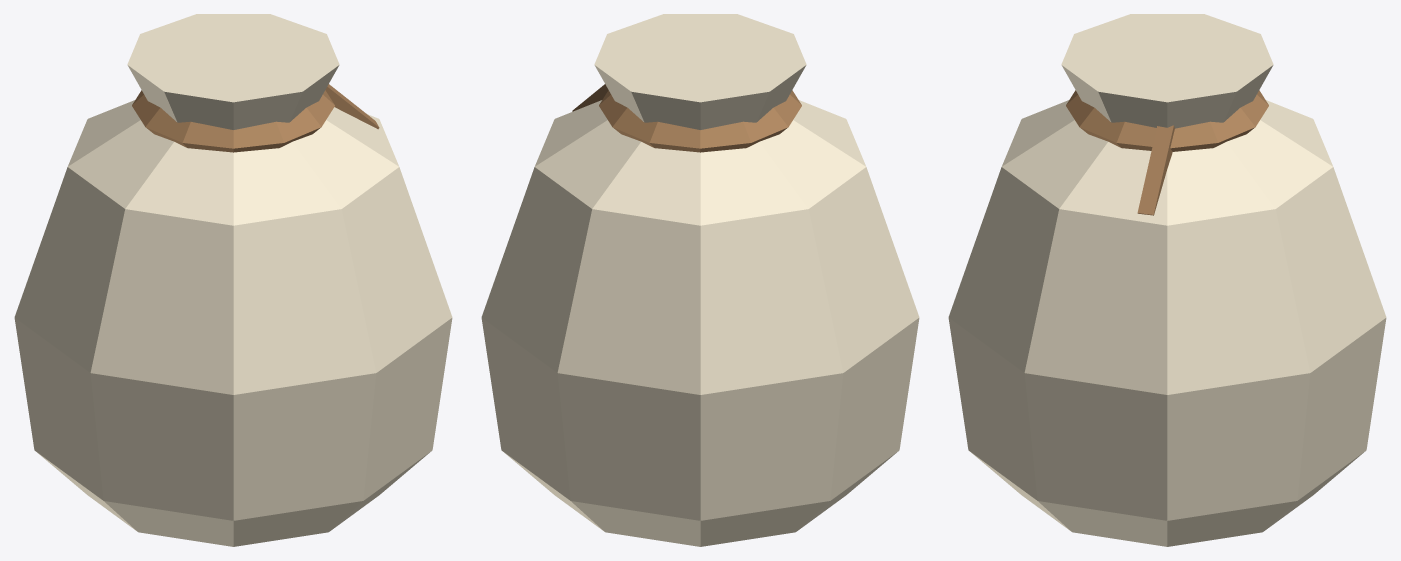
Rendered from AC_Tied_Sack.glb.
3 renders of one model, left to right at view 1: azimuth 30°, elevation 25°; view 2: azimuth 150°, elevation 25°; view 3: azimuth 270°, elevation 25°, orthographic.
Parts seen in each view (by area): view 1: AC_Tied_Sack; view 2: AC_Tied_Sack; view 3: AC_Tied_Sack.
Boxes of the visible parts, left/top/right/bottom form: AC_Tied_Sack: left=14, top=14, right=452, bottom=546; AC_Tied_Sack: left=481, top=14, right=919, bottom=546; AC_Tied_Sack: left=948, top=14, right=1386, bottom=546.
Size of the model in its own units: 0.6401 by 0.7 by 0.65.
